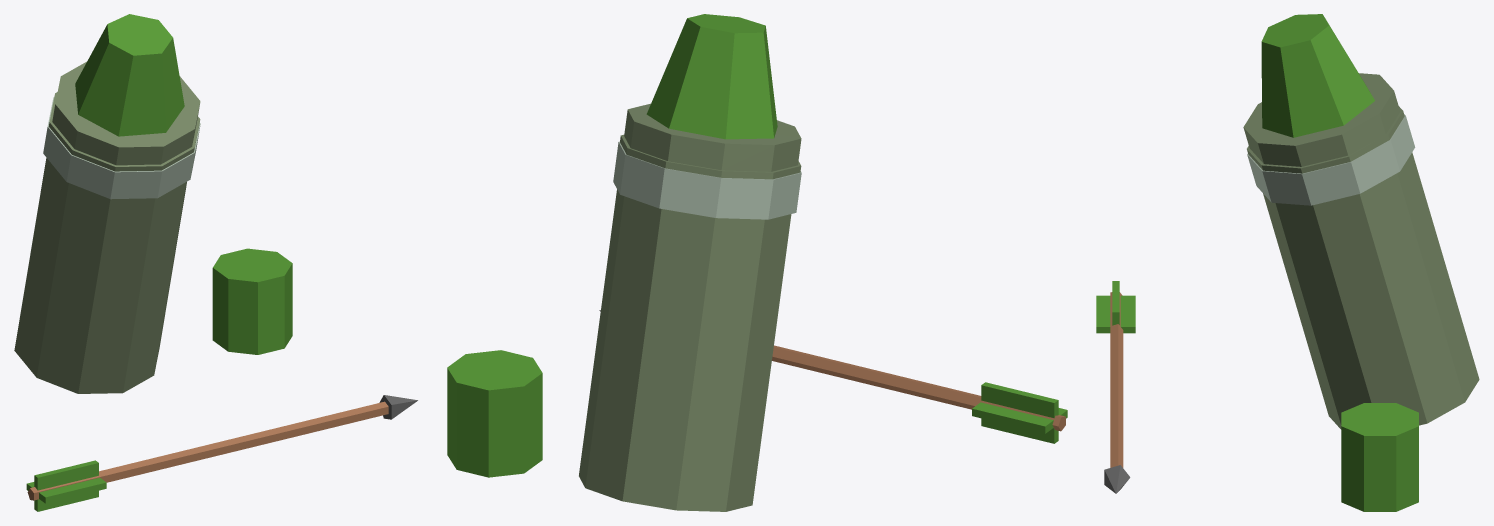
The model's file is ce_ammo2_arrowjar_venom_c.obj.
3 renders of one model, left to right at view 1: azimuth 30°, elevation 25°; view 2: azimuth 150°, elevation 25°; view 3: azimuth 270°, elevation 25°, orthographic. The views are drawn at different scales.
Visible parts, largest first — view 1: ce_ammo2_arrowjar_venom_c_0, ce_ammo2_arrowjar_venom_c_2, ce_ammo2_arrowjar_venom_c_7, ce_ammo2_arrowjar_venom_c_1, ce_ammo2_arrowjar_venom_c_3, ce_ammo2_arrowjar_venom_c_6, ce_ammo2_arrowjar_venom_c_5, ce_ammo2_arrowjar_venom_c_4; view 2: ce_ammo2_arrowjar_venom_c_0, ce_ammo2_arrowjar_venom_c_2, ce_ammo2_arrowjar_venom_c_7, ce_ammo2_arrowjar_venom_c_1, ce_ammo2_arrowjar_venom_c_3, ce_ammo2_arrowjar_venom_c_6, ce_ammo2_arrowjar_venom_c_5; view 3: ce_ammo2_arrowjar_venom_c_0, ce_ammo2_arrowjar_venom_c_2, ce_ammo2_arrowjar_venom_c_7, ce_ammo2_arrowjar_venom_c_1, ce_ammo2_arrowjar_venom_c_3, ce_ammo2_arrowjar_venom_c_5, ce_ammo2_arrowjar_venom_c_4.
Part boxes in pixels (x1,y1,x2,y2): ce_ammo2_arrowjar_venom_c_0: [14, 61, 200, 393]; ce_ammo2_arrowjar_venom_c_2: [75, 14, 184, 136]; ce_ammo2_arrowjar_venom_c_7: [212, 248, 292, 354]; ce_ammo2_arrowjar_venom_c_1: [43, 97, 200, 199]; ce_ammo2_arrowjar_venom_c_3: [27, 401, 388, 500]; ce_ammo2_arrowjar_venom_c_6: [34, 460, 98, 511]; ce_ammo2_arrowjar_venom_c_5: [26, 477, 106, 503]; ce_ammo2_arrowjar_venom_c_4: [379, 395, 417, 419]; ce_ammo2_arrowjar_venom_c_0: [579, 103, 801, 511]; ce_ammo2_arrowjar_venom_c_2: [646, 14, 777, 139]; ce_ammo2_arrowjar_venom_c_7: [447, 350, 542, 477]; ce_ammo2_arrowjar_venom_c_1: [613, 141, 801, 219]; ce_ammo2_arrowjar_venom_c_3: [772, 345, 1065, 431]; ce_ammo2_arrowjar_venom_c_6: [981, 382, 1058, 443]; ce_ammo2_arrowjar_venom_c_5: [972, 402, 1067, 433]; ce_ammo2_arrowjar_venom_c_0: [1243, 73, 1479, 429]; ce_ammo2_arrowjar_venom_c_2: [1261, 14, 1374, 137]; ce_ammo2_arrowjar_venom_c_7: [1341, 403, 1418, 511]; ce_ammo2_arrowjar_venom_c_1: [1247, 114, 1415, 205]; ce_ammo2_arrowjar_venom_c_3: [1110, 292, 1123, 467]; ce_ammo2_arrowjar_venom_c_5: [1096, 295, 1135, 333]; ce_ammo2_arrowjar_venom_c_4: [1104, 465, 1130, 493].
Size of the model in its own units: 0.779 by 0.7263 by 0.6384.
